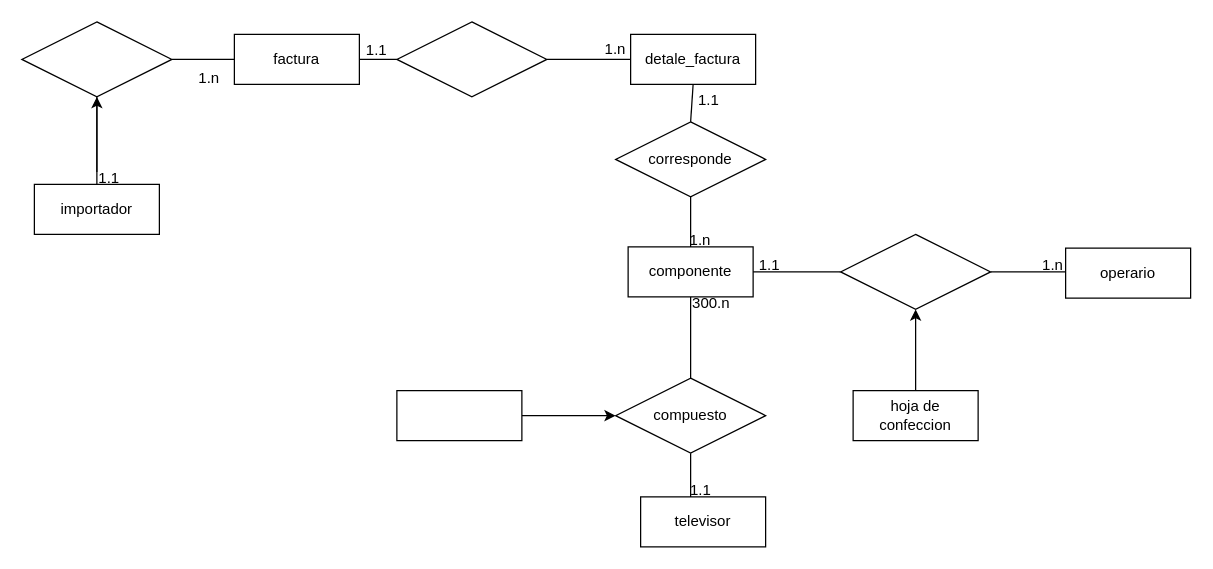
Image size: 1213x569. Some labels were removed from this diagram. The centre of each missing label's shape, as x and y in pixels:
"emite" goes at [96,59].
"fabricado" goes at [915,271].
"mapa de armado" goes at [459,415].
"tiene" goes at [471,59].
